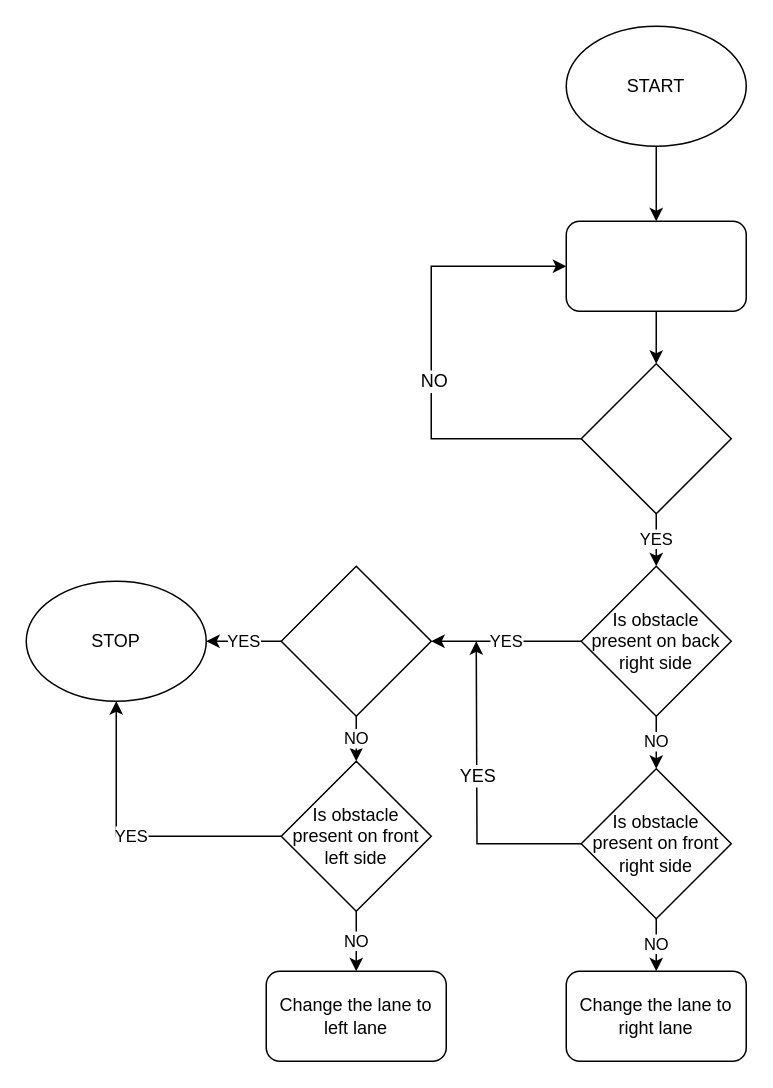
The diagram is 773 pixels wide and 1088 high, and some of its shapes have lost their labels. The shapes that lost their labels are listed below. From the top down, each one's centre as x and y in pixels, then its label:
(655,265): Drive in Forward Direction
(655,438): Is obstacle present?
(355,640): Is obstacle present on back left side
